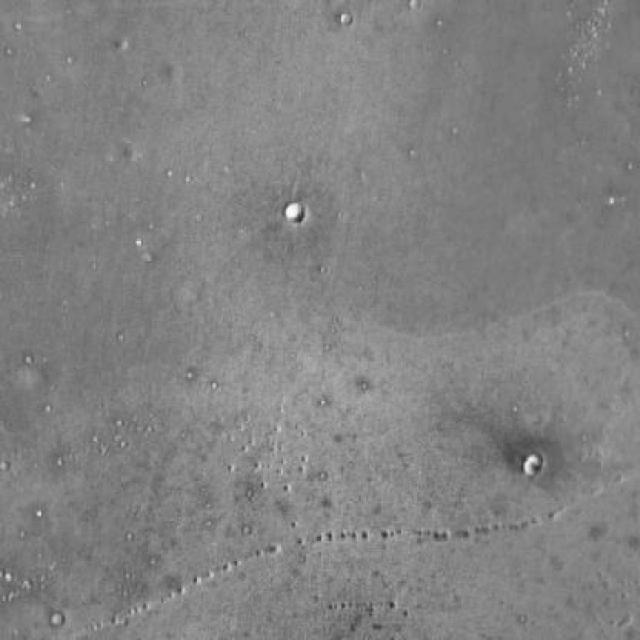crater: (285, 202, 303, 221), (524, 456, 541, 473)
